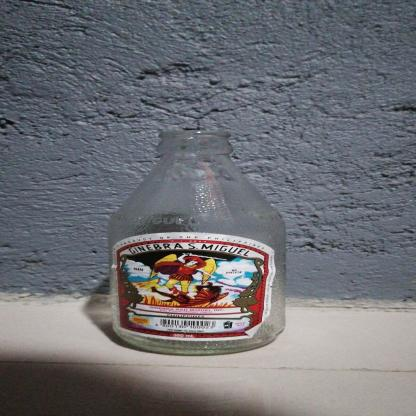Can: (92, 127, 296, 361)
